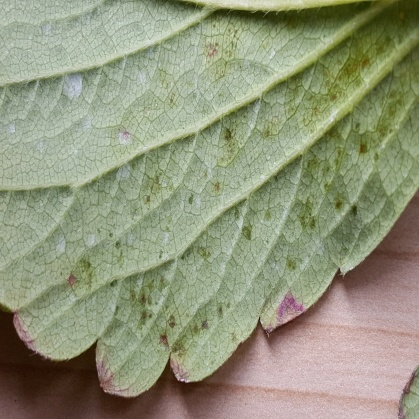Angular_LS: (0, 21, 404, 415)
